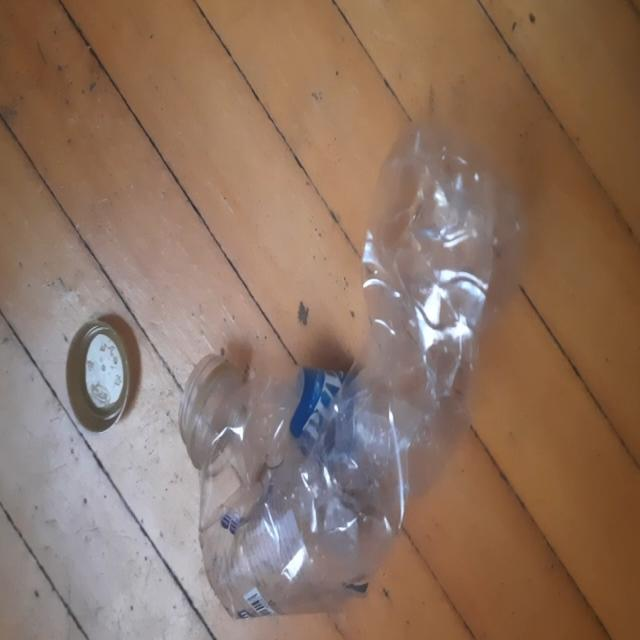Plastic: (180, 121, 518, 619)
